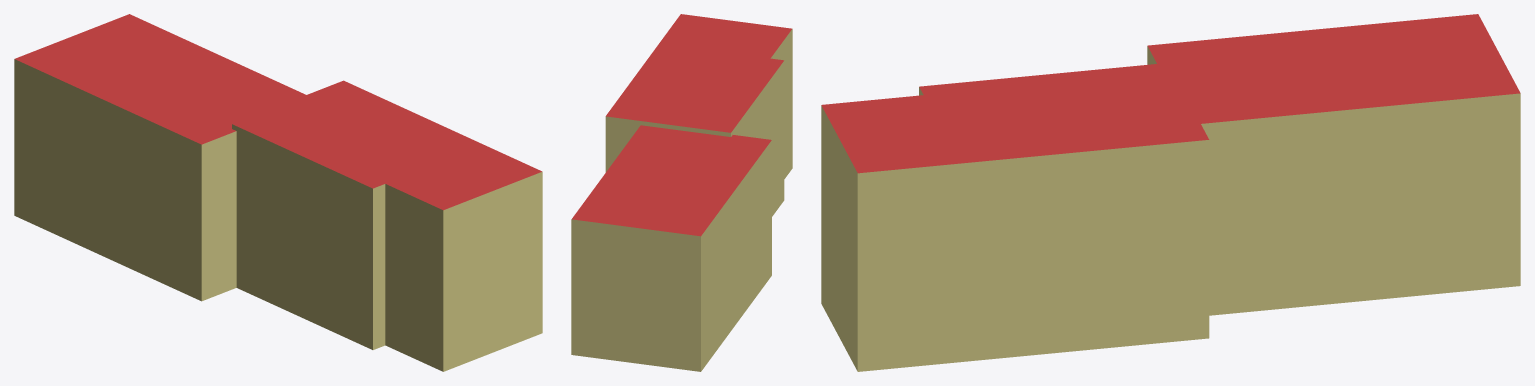
3 renders of one model, left to right at view 1: azimuth 30°, elevation 25°; view 2: azimuth 150°, elevation 25°; view 3: azimuth 270°, elevation 25°, orthographic. The views are drawn at different scales.
Visible parts, largest first — view 1: group_7, group_4, group_6, group_3; view 2: group_4, group_6, group_3, group_7; view 3: group_7, group_4, group_6, group_3.
Part boxes in pixels (bbox=[...]): group_7: bbox=[232, 124, 542, 371]; group_4: bbox=[14, 59, 236, 301]; group_6: bbox=[232, 80, 541, 210]; group_3: bbox=[15, 14, 305, 144]; group_4: bbox=[571, 140, 771, 371]; group_6: bbox=[606, 14, 791, 132]; group_3: bbox=[572, 125, 771, 236]; group_7: bbox=[605, 29, 792, 216]; group_7: bbox=[821, 87, 1209, 371]; group_4: bbox=[1147, 46, 1520, 315]; group_6: bbox=[821, 63, 1209, 173]; group_3: bbox=[1147, 14, 1520, 123].
Size of the model in its own units: 35.13 by 62.8 by 19.68.
